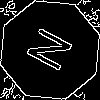N: (25, 25, 83, 78)
